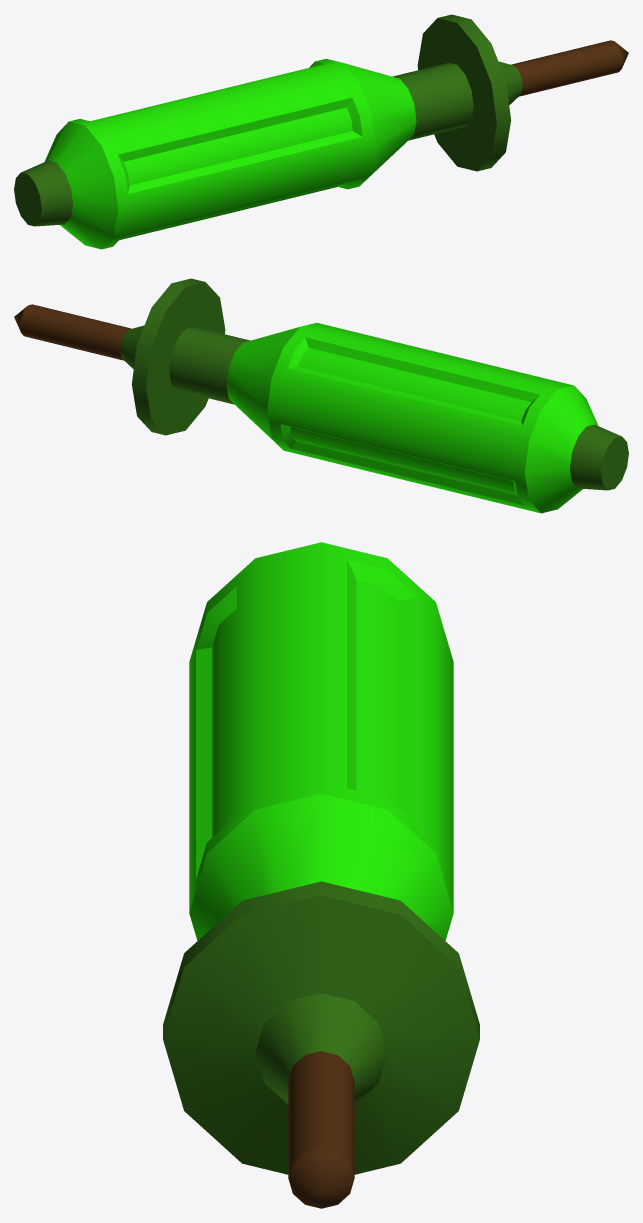
The model's file is solderer.gltf.
The picture shows the model from 3 angles, top to bottom: view 1: azimuth 30°, elevation 25°; view 2: azimuth 150°, elevation 25°; view 3: azimuth 270°, elevation 25°; orthographic projection. The views are drawn at different scales.
Parts seen in each view (by area): view 1: Solderer; view 2: Solderer; view 3: Solderer.
Part boxes in pixels (left/top/right/bottom): Solderer: left=14, top=14, right=628, bottom=249; Solderer: left=14, top=278, right=628, bottom=513; Solderer: left=163, top=542, right=479, bottom=1208.
Size of the model in its own units: 0.21 by 0.048 by 0.048.
